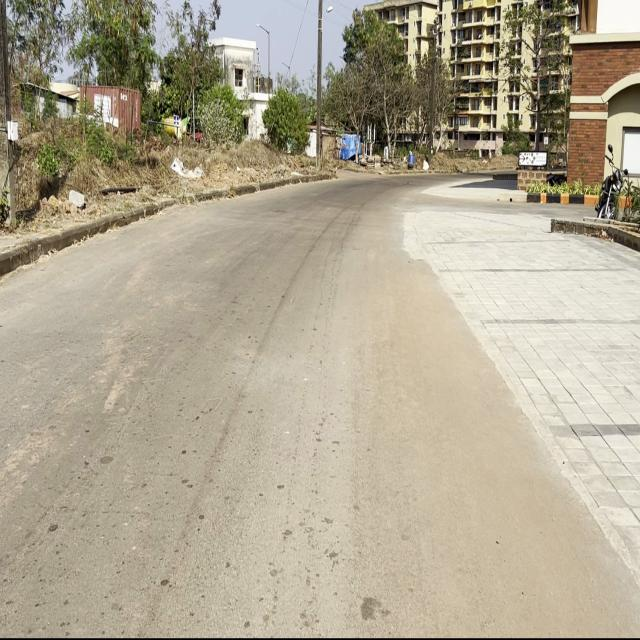Road: (0, 172, 640, 639)
